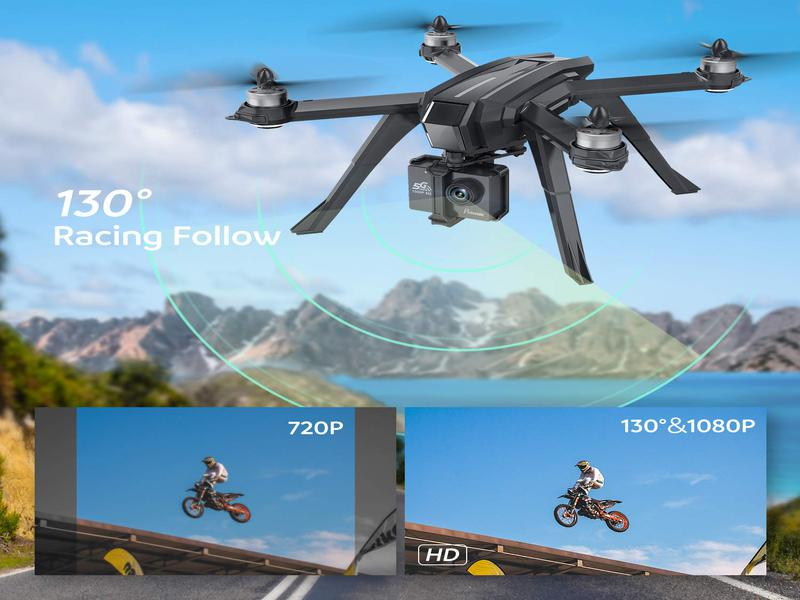enemy: (243, 25, 746, 280)
